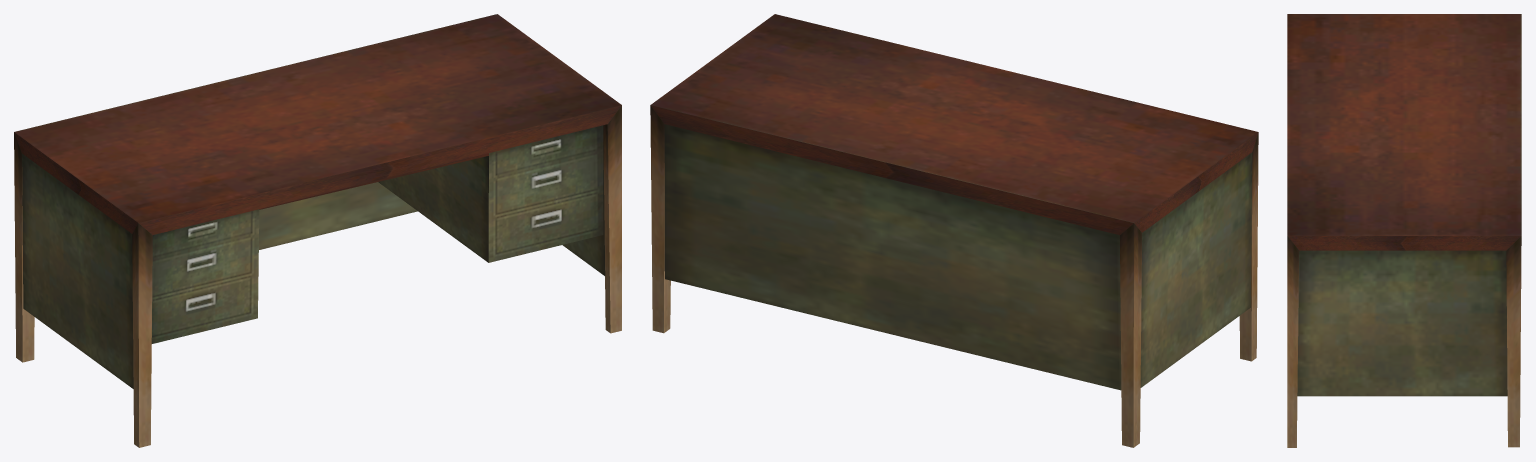
File: desk_med_low_grnmtl.fbx
3 renders of one model, left to right at view 1: azimuth 30°, elevation 25°; view 2: azimuth 150°, elevation 25°; view 3: azimuth 270°, elevation 25°, orthographic. The views are drawn at different scales.
Visible parts, largest first — view 1: mesh_0; view 2: mesh_0; view 3: mesh_0.
Part boxes in pixels (left/top/right/bottom): mesh_0: left=14, top=14, right=621, bottom=447; mesh_0: left=650, top=14, right=1258, bottom=447; mesh_0: left=1287, top=14, right=1521, bottom=447.
Size of the model in its own units: 179 by 80.02 by 80.
1 material, 1 textured.
